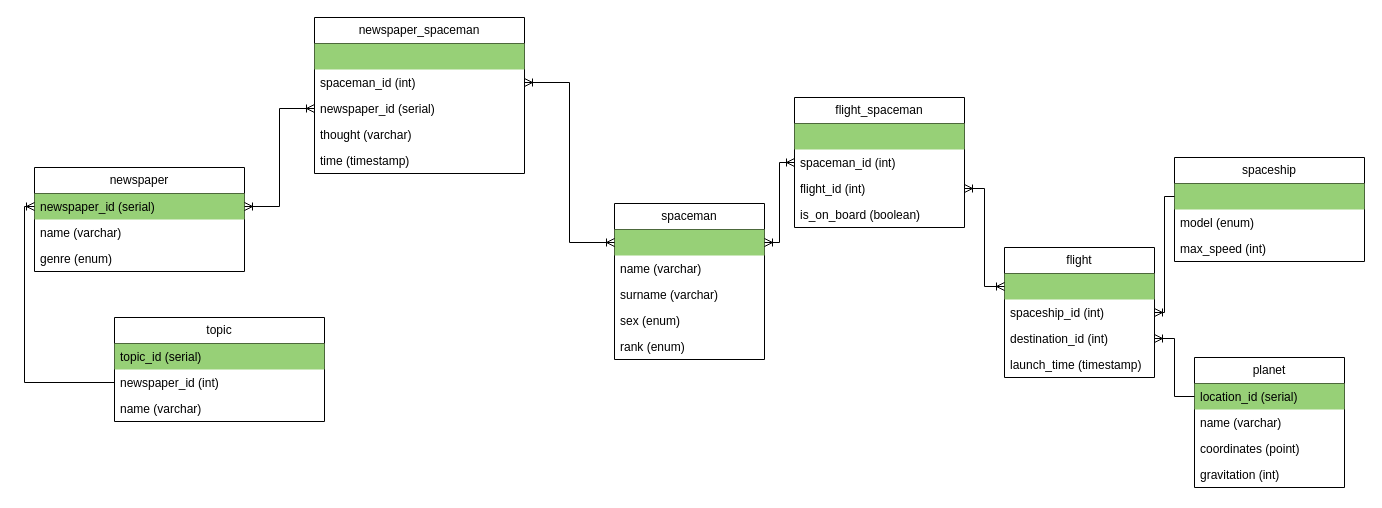
Image size: 1382x508. Some labels were removed from this diagram. The centre of each missing label's shape, as x and y in pixels:
flight_id (serial): [1079,286]
flight_spaceman_id (serial): [879,136]
newspaper_spaceman_id (serial): [419,56]
spaceman_id (serial): [689,242]
spaceship_id (serial): [1269,196]
